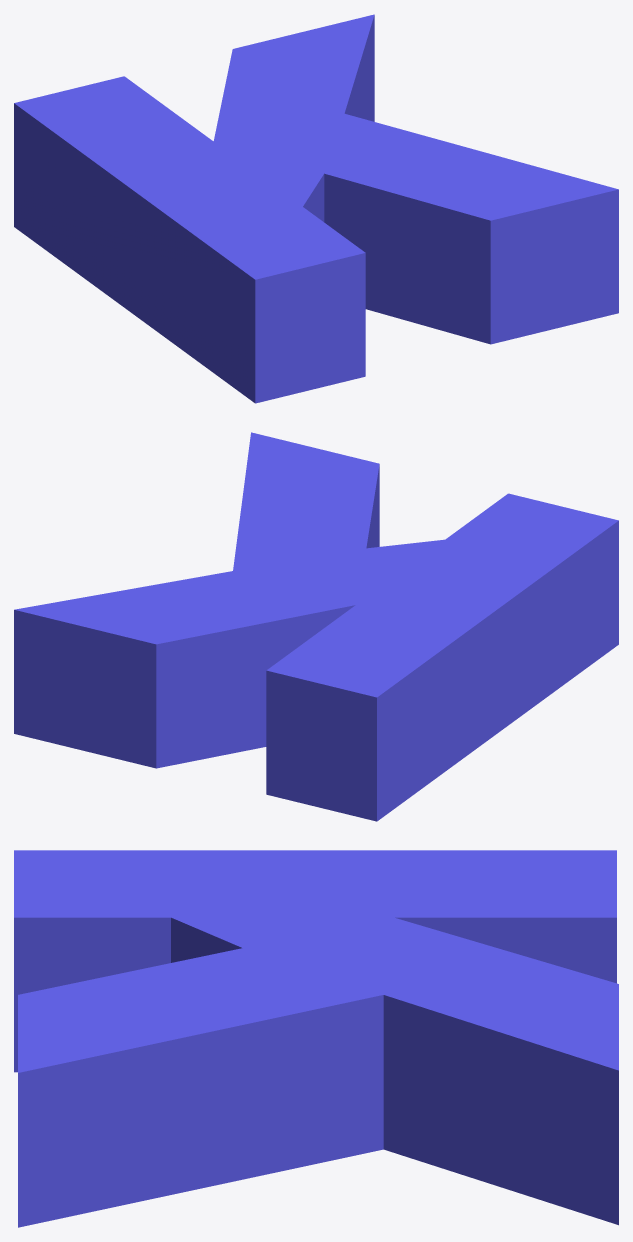
3 renders of one model, top to bottom at view 1: azimuth 30°, elevation 25°; view 2: azimuth 150°, elevation 25°; view 3: azimuth 270°, elevation 25°, orthographic. The views are drawn at different scales.
Visible parts, largest first — view 1: K1; view 2: K1; view 3: K1.
Part boxes in pixels (x1,y1,x2,y2): K1: (14,14,618,403); K1: (14,432,618,821); K1: (14,850,618,1227).
Bounding box in the file's own units: 0.4632 × 0.15 × 0.5317.
